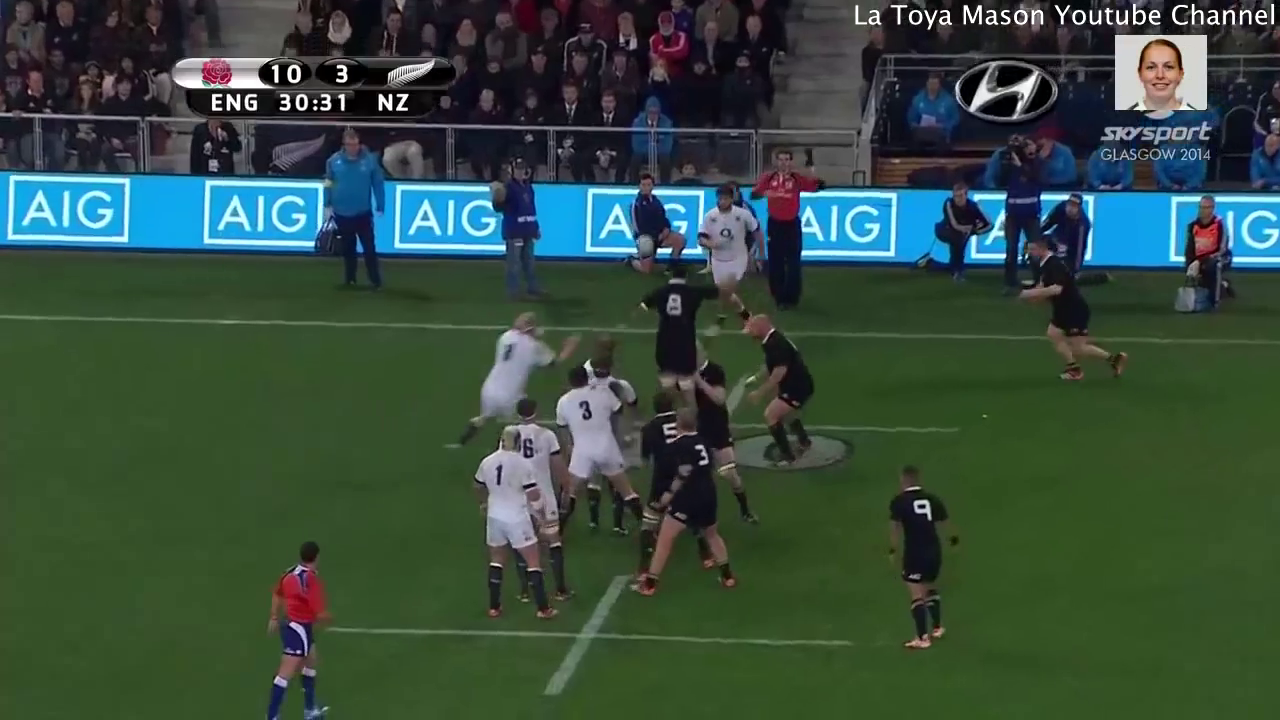10_metre: (314, 557, 863, 708)
ball: (625, 229, 658, 260)
lineout: (413, 232, 828, 623)
player: (431, 296, 583, 466), (625, 412, 745, 604), (533, 360, 653, 536), (460, 420, 561, 625), (871, 448, 969, 656), (679, 332, 771, 537), (1011, 234, 1129, 386), (249, 530, 343, 720), (502, 389, 578, 609), (746, 135, 833, 311), (732, 302, 825, 463), (617, 254, 714, 406), (627, 369, 694, 586), (689, 175, 766, 342), (580, 329, 639, 406)
